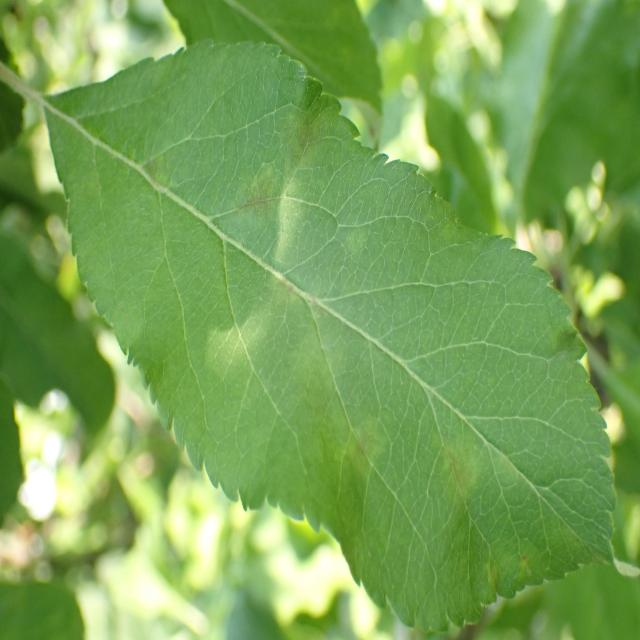scab: (69, 49, 575, 605)
